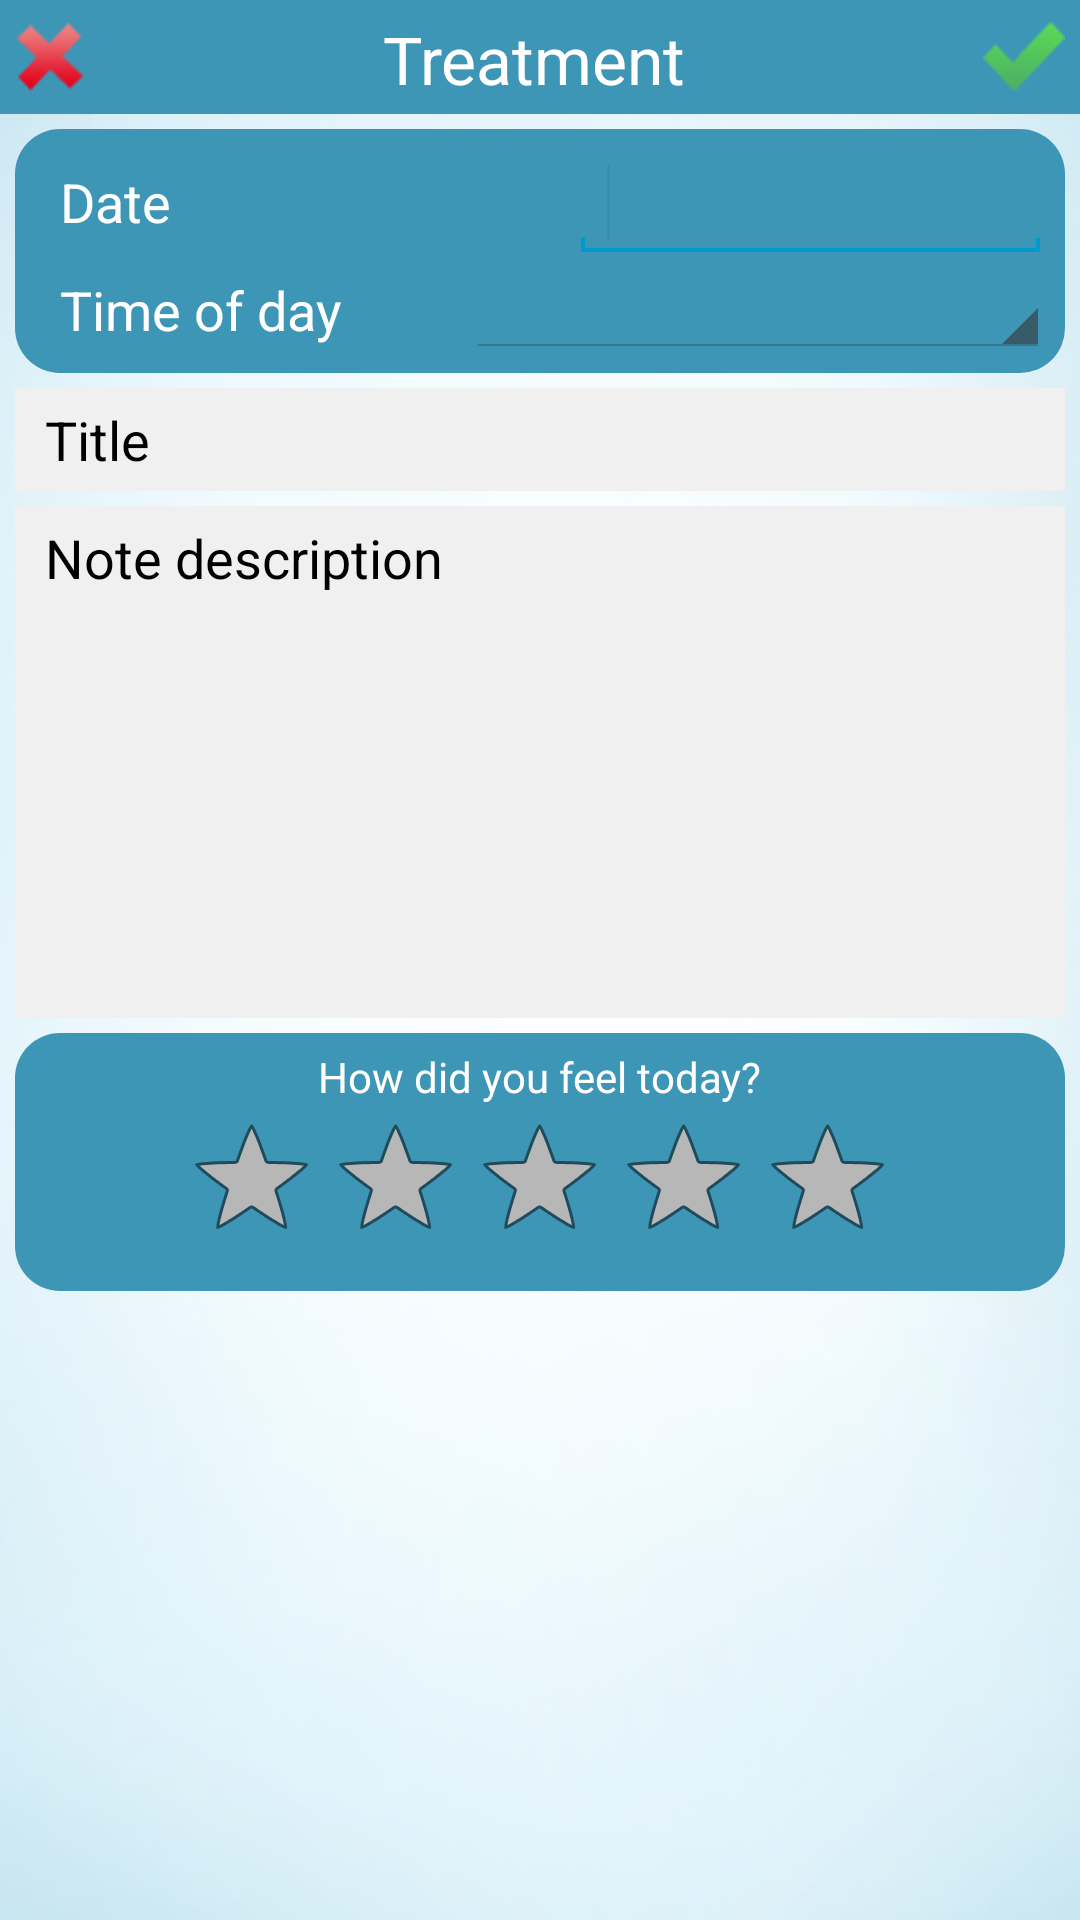

Screen size 1080px×1920px. Icon name, then its box in pixels as {"x1": x1, "y1": y1, "x2": x2, "y2": y2}:
check buttonless on: {"x1": 983, "y1": 22, "x2": 1065, "y2": 91}
check delete: {"x1": 16, "y1": 23, "x2": 83, "y2": 91}
